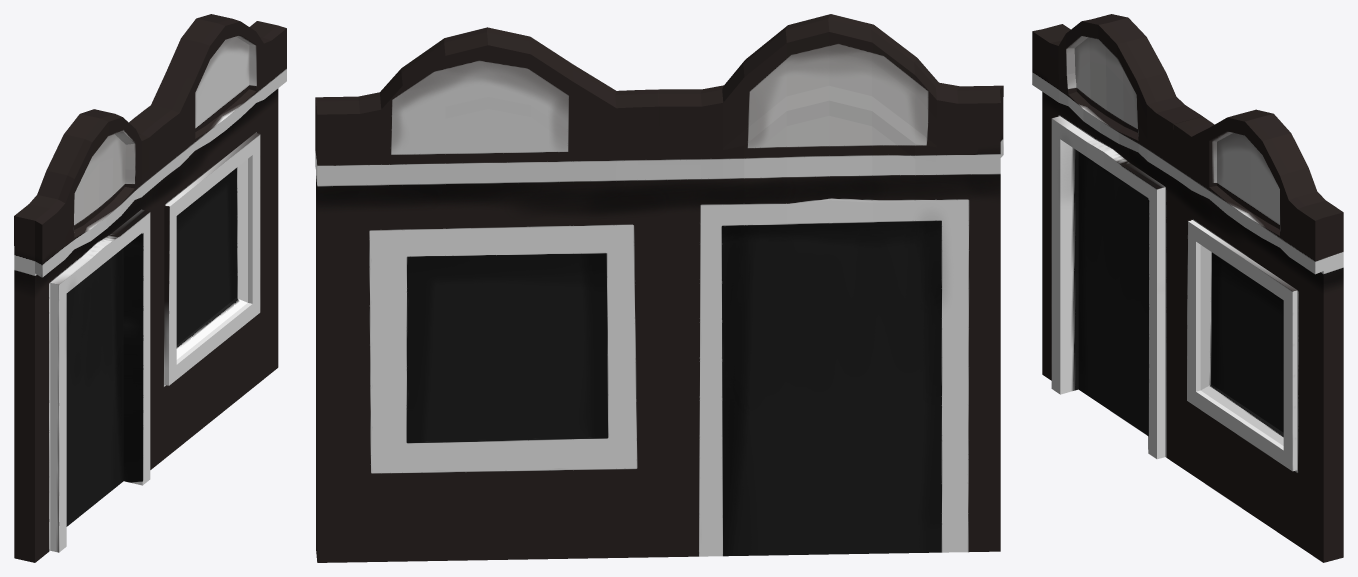
The model's file is casa4.fbx.
3 views of the same model, side by side, from view 1: azimuth 30°, elevation 25°; view 2: azimuth 150°, elevation 25°; view 3: azimuth 270°, elevation 25° (orthographic). The views are drawn at different scales.
Visible parts, largest first — view 1: casa base.002; view 2: casa base.002; view 3: casa base.002.
Boxes of the visible parts, x1=… form: casa base.002: x1=14, y1=14, x2=286, y2=562; casa base.002: x1=315, y1=14, x2=1003, y2=562; casa base.002: x1=1032, y1=14, x2=1343, y2=562.
Size of the model in its own units: 175 by 166 by 117.
1 material, 1 textured.
